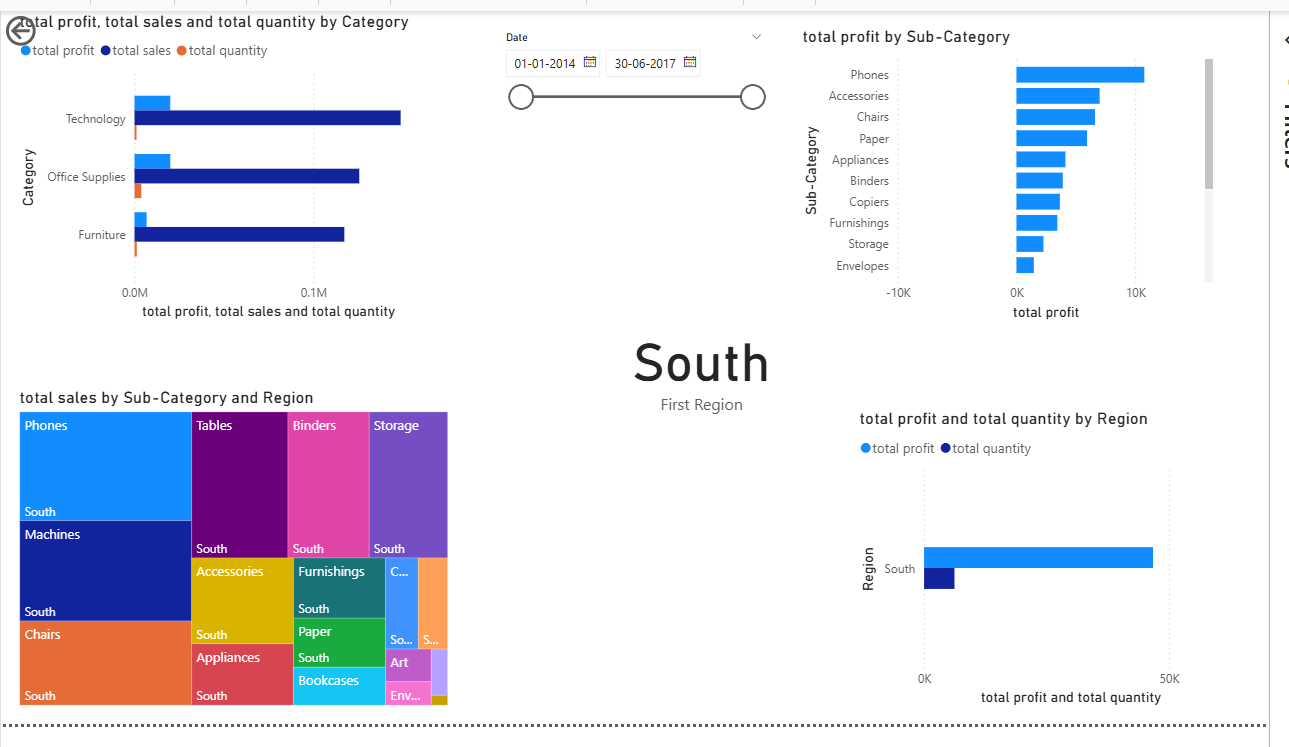

The dashboard page shown, as its layout file describes it:
{"tool":"powerbi","page":{"name":"region ","canvas":[1280,720],"ordinal":2},"visuals":[{"type":"card","fields":{"Values":["Min(Orders.Region)"]},"box":[521.4,242.9,372.4,231.5],"z":0},{"type":"clusteredBarChart","fields":{"Category":["Orders.Category"],"Y":["Orders.total profit","Orders.total sales","Orders.total quantity"]},"box":[13,0,411.3,315.7],"z":1000},{"type":"barChart","fields":{"Category":["Orders.Sub-Category"],"Y":["Orders.total profit"]},"box":[804.8,14.6,424.2,301.2],"z":2000},{"type":"slicer","fields":{"Values":["dim dates.Date"]},"box":[497.1,14.6,283.4,144.1],"z":3000},{"type":"treemap","fields":{"Group":["Orders.Sub-Category"],"Values":["Orders.total sales"],"Details":["Orders.Region"]},"box":[13,380.5,442,325.5],"z":4000},{"type":"clusteredBarChart","fields":{"Category":["Orders.Region"],"Y":["Orders.total profit","Orders.total quantity"]},"box":[861.4,401.6,382.1,304.4],"z":5000},{"type":"actionButton","box":[0,0,100,40],"z":6000}]}

Visuals, with their boxes in screenshot pixels (x1, y1, x2, y2), scaled from the page's 1280x720 canvas onto the 1289x747 screenshot:
card - Min(Orders.Region): 525:252:900:492
clusteredBarChart - Orders.Category x Orders.total profit: 13:0:427:328
barChart - Orders.Sub-Category x Orders.total profit: 810:15:1238:328
slicer - dim dates.Date: 501:15:786:165
treemap - Orders.Sub-Category x Orders.total sales: 13:395:458:732
clusteredBarChart - Orders.Region x Orders.total profit: 867:417:1252:732
actionButton: 0:0:101:42
